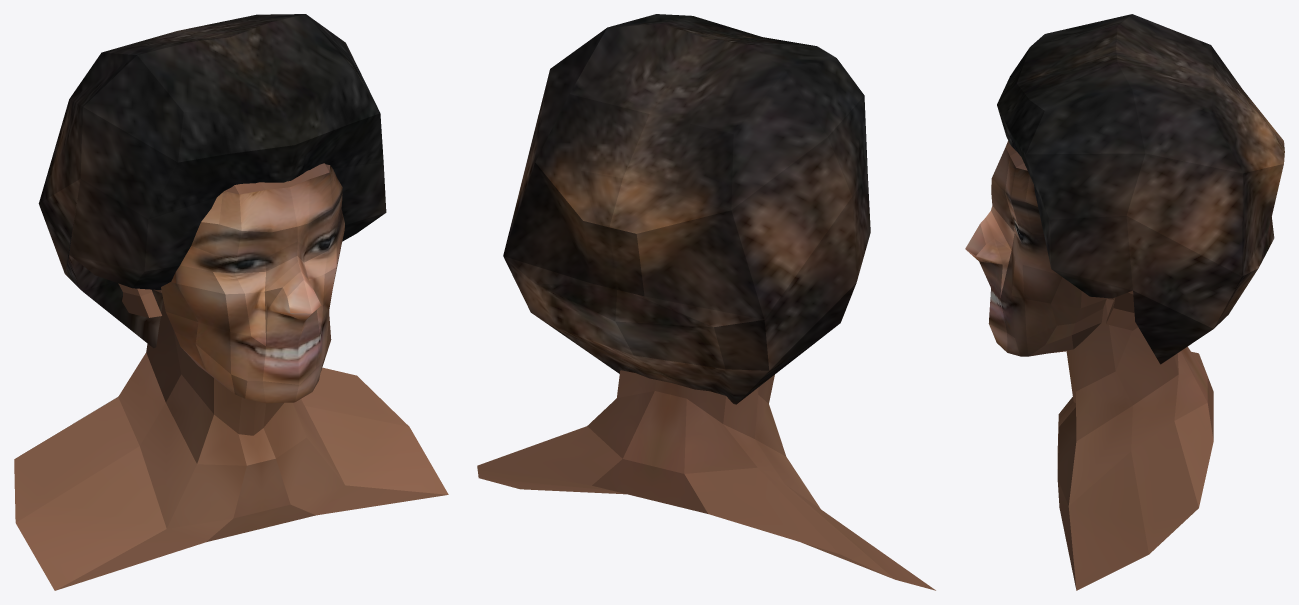
File: Middle.fbx
The picture shows the model from 3 angles, left to right: view 1: azimuth 30°, elevation 25°; view 2: azimuth 150°, elevation 25°; view 3: azimuth 270°, elevation 25°; orthographic projection. The views are drawn at different scales.
Parts seen in each view (by area): view 1: MiddleFace.001; view 2: MiddleFace.001; view 3: MiddleFace.001.
Boxes of the visible parts, left/top/right/bottom form: MiddleFace.001: left=14, top=14, right=448, bottom=590; MiddleFace.001: left=477, top=14, right=935, bottom=590; MiddleFace.001: left=965, top=14, right=1284, bottom=590.
Size of the model in its own units: 172 by 206 by 131.
